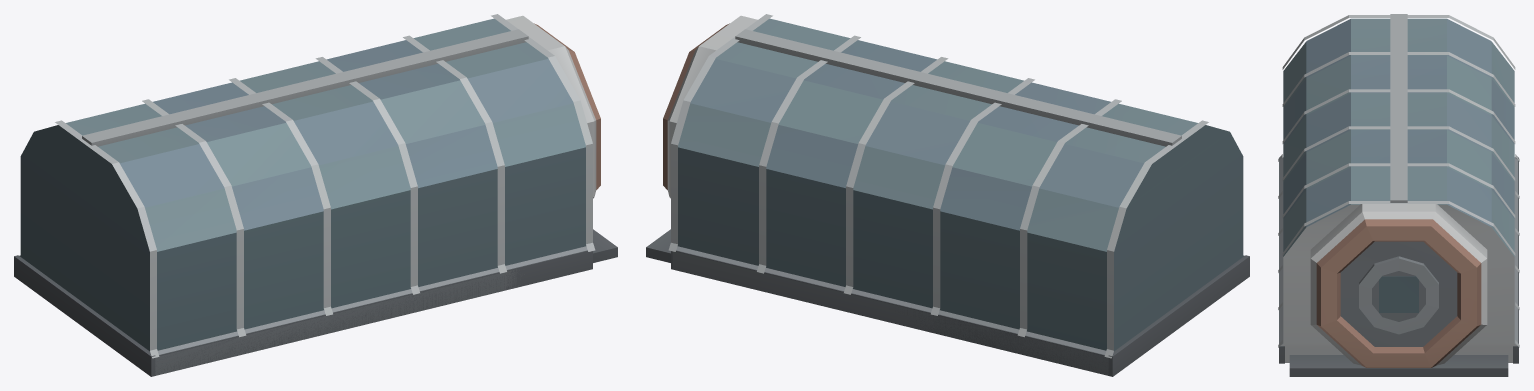
Rendered from gmod.lod2.glb.
3 views of the same model, side by side, from view 1: azimuth 30°, elevation 25°; view 2: azimuth 150°, elevation 25°; view 3: azimuth 270°, elevation 25° (orthographic). The views are drawn at different scales.
Size of the model in its own units: 11.17 by 4.2 by 5.64.
